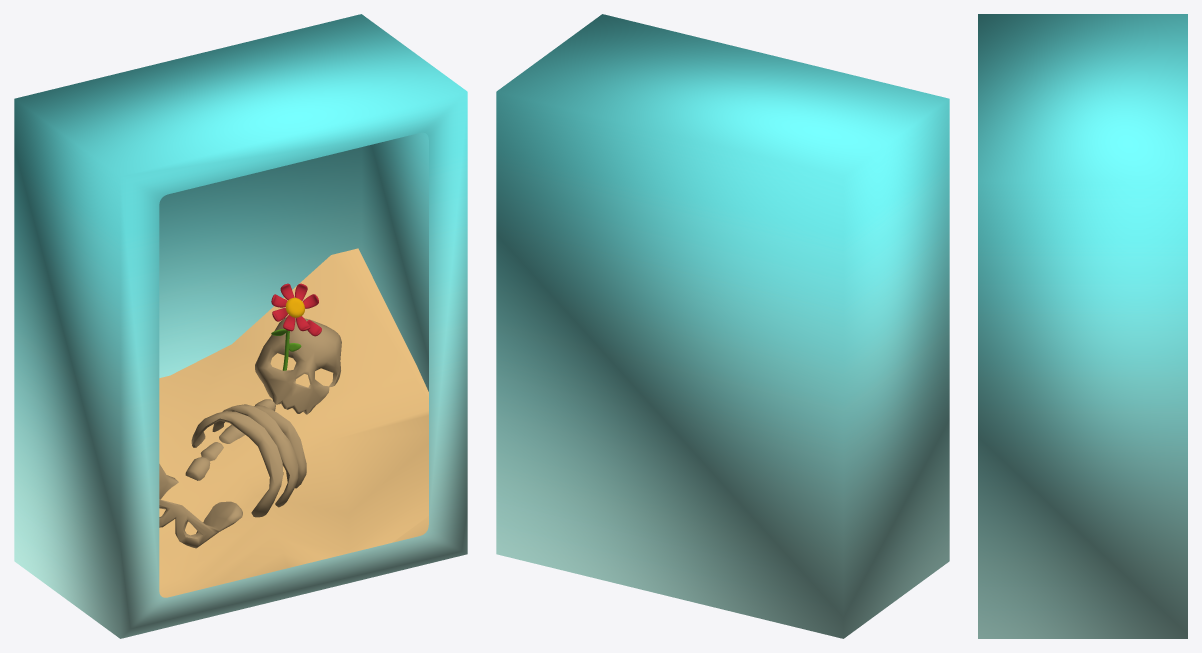
The model's file is 17_Rebirth.gltf.
3 renders of one model, left to right at view 1: azimuth 30°, elevation 25°; view 2: azimuth 150°, elevation 25°; view 3: azimuth 270°, elevation 25°, orthographic.
Parts seen in each view (by area): view 1: 17_Rebirth_bg, 17_Rebirth; view 2: 17_Rebirth_bg; view 3: 17_Rebirth_bg.
Part boxes in pixels (box(x1,y1,x2,y2)): 17_Rebirth_bg: box(14, 14, 467, 638); 17_Rebirth: box(159, 248, 428, 597); 17_Rebirth_bg: box(496, 14, 949, 638); 17_Rebirth_bg: box(978, 14, 1187, 638).
Size of the model in its own units: 2.76 by 3.51 by 1.46.
Materials: 1 (1 with a texture image).
